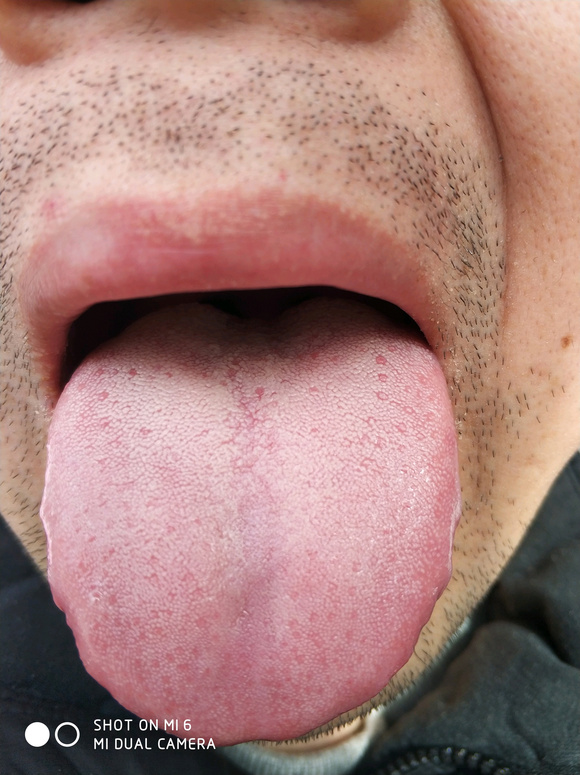baitaishe: (40, 300, 459, 747)
hongdianshe: (371, 351, 388, 368)
